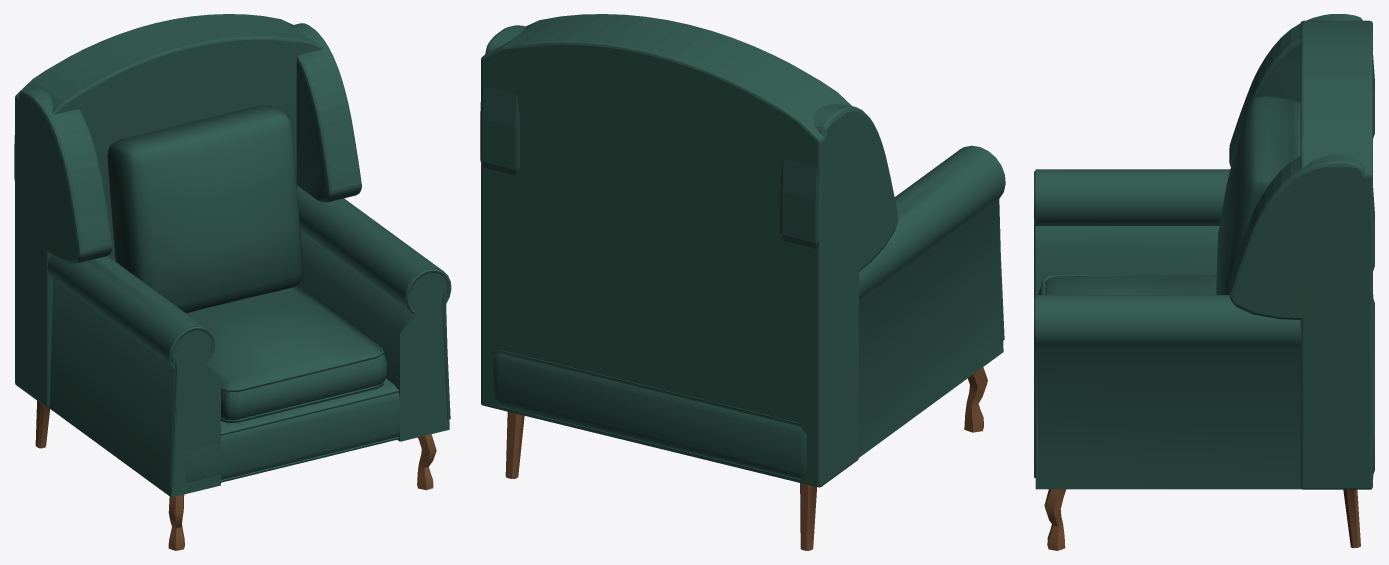
The model's file is armchairWingback.glb.
3 renders of one model, left to right at view 1: azimuth 30°, elevation 25°; view 2: azimuth 150°, elevation 25°; view 3: azimuth 270°, elevation 25°, orthographic. The views are drawn at different scales.
Parts seen in each view (by area): view 1: sofa, seat; view 2: sofa; view 3: sofa, seat.
Boxes of the visible parts, x1,y1,x2,y2 form: sofa: (14,14,451,550); seat: (186,285,387,423); sofa: (480,14,1005,550); sofa: (1034,14,1374,550); seat: (1038,275,1216,294).
Size of the model in its own units: 0.84 by 1.1 by 0.8037.
